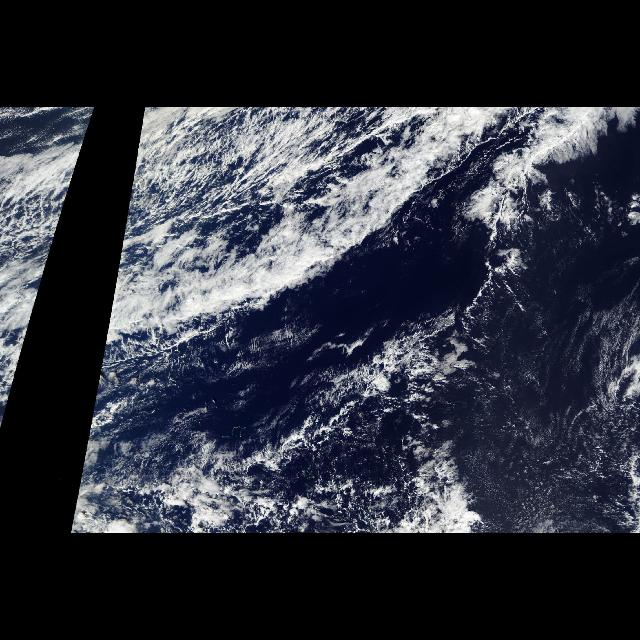Fish: (164, 117, 322, 241)
Gravel: (237, 464, 387, 530)
Sugar: (482, 414, 594, 528)
